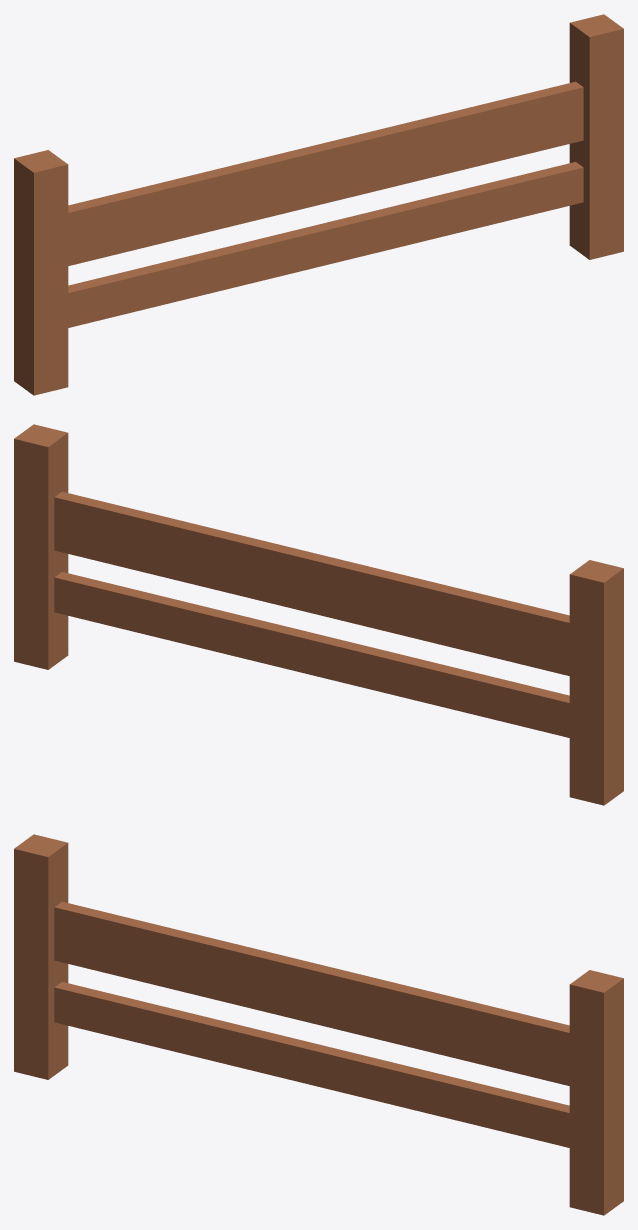
The model's file is Valla.fbx.
3 renders of one model, top to bottom at view 1: azimuth 30°, elevation 25°; view 2: azimuth 150°, elevation 25°; view 3: azimuth 330°, elevation 25°, orthographic.
Visible parts, largest first — view 1: Cube.001; view 2: Cube.001; view 3: Cube.001.
Part boxes in pixels (box(x1,y1,x2,y2)): Cube.001: box(14, 14, 623, 395); Cube.001: box(14, 424, 623, 805); Cube.001: box(14, 834, 623, 1215).
Bounding box in the file's own units: 1076 × 388 × 62.64.
